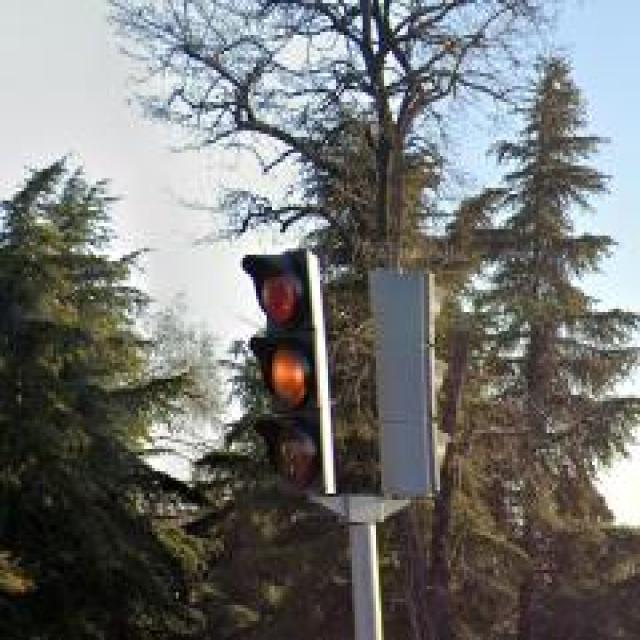yellow_light: (261, 251, 313, 492)
